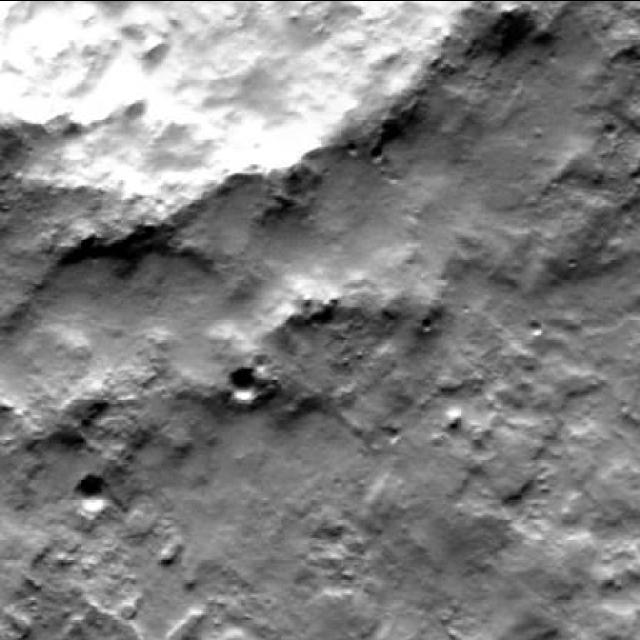crater: (71, 475, 107, 514), (222, 366, 256, 403)
